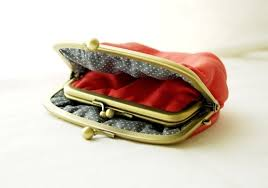monedero: (44, 39, 229, 146)
